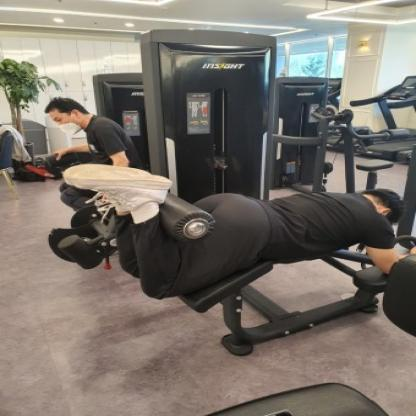reg curl machine: (43, 26, 416, 359)
